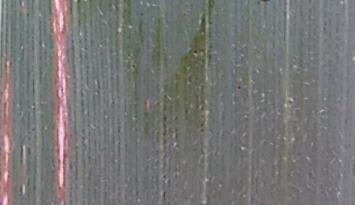tarspot: (192, 48, 198, 54), (236, 84, 242, 90)
